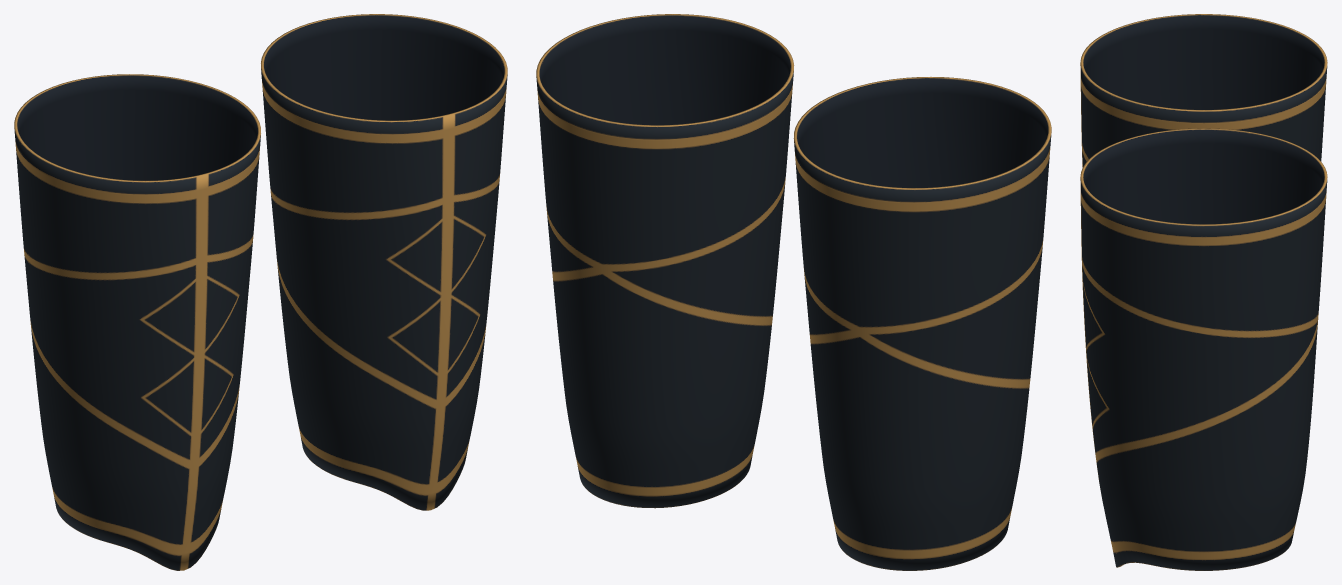
The model's file is SM_ObsidianSovereign_Thighs_preview_2K.glb.
3 views of the same model, side by side, from view 1: azimuth 30°, elevation 25°; view 2: azimuth 150°, elevation 25°; view 3: azimuth 270°, elevation 25° (orthographic). The views are drawn at different scales.
Visible parts, largest first — view 1: SM_ObsidianSovereign_Thighs_L, SM_ObsidianSovereign_Thighs_R; view 2: SM_ObsidianSovereign_Thighs_L, SM_ObsidianSovereign_Thighs_R; view 3: SM_ObsidianSovereign_Thighs_L, SM_ObsidianSovereign_Thighs_R.
Part boxes in pixels (x1=…): SM_ObsidianSovereign_Thighs_L: x1=261, y1=14, x2=507, y2=510; SM_ObsidianSovereign_Thighs_R: x1=14, y1=74, x2=260, y2=570; SM_ObsidianSovereign_Thighs_L: x1=536, y1=14, x2=794, y2=508; SM_ObsidianSovereign_Thighs_R: x1=793, y1=77, x2=1051, y2=570; SM_ObsidianSovereign_Thighs_L: x1=1080, y1=128, x2=1327, y2=570; SM_ObsidianSovereign_Thighs_R: x1=1080, y1=14, x2=1327, y2=167.
Bounding box in the file's own units: 0.426 × 0.3642 × 0.21.
Materials: 1 (1 with a texture image).
